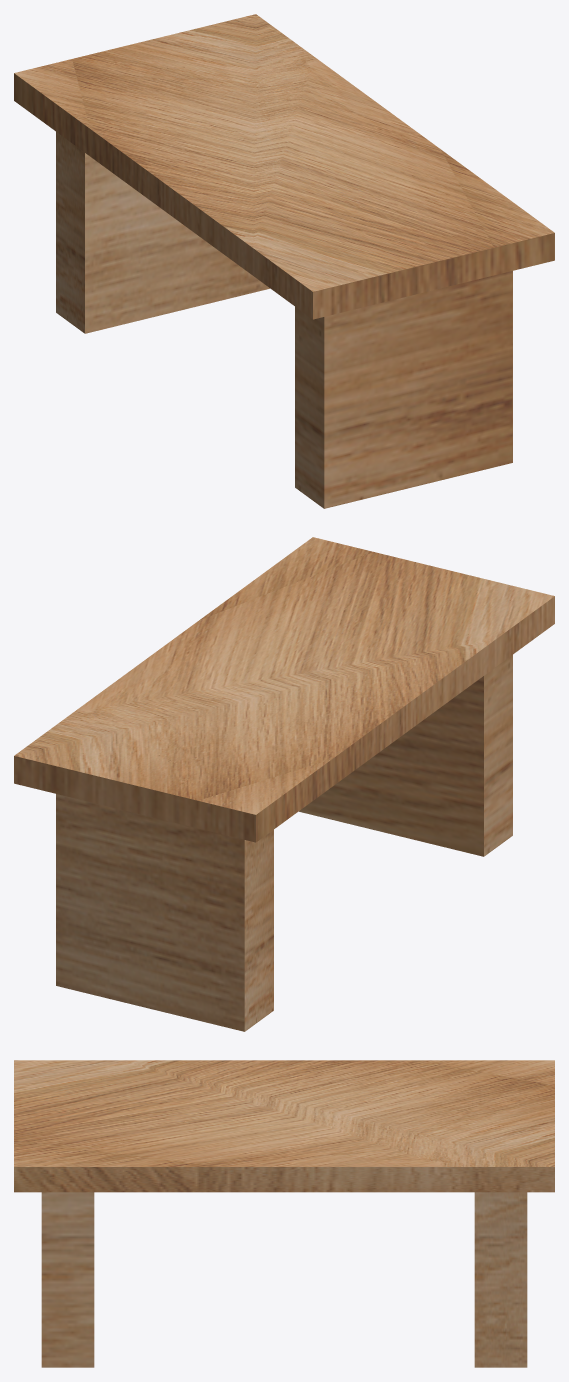
Rendered from Desk.fbx.
3 renders of one model, top to bottom at view 1: azimuth 30°, elevation 25°; view 2: azimuth 150°, elevation 25°; view 3: azimuth 270°, elevation 25°, orthographic. The views are drawn at different scales.
Parts seen in each view (by area): view 1: Cube; view 2: Cube; view 3: Cube.
Boxes of the visible parts, x1=… form: Cube: x1=14, y1=14, x2=554, y2=508; Cube: x1=14, y1=537, x2=554, y2=1031; Cube: x1=14, y1=1060, x2=554, y2=1367.
Size of the model in its own units: 736 by 682 by 1574.
